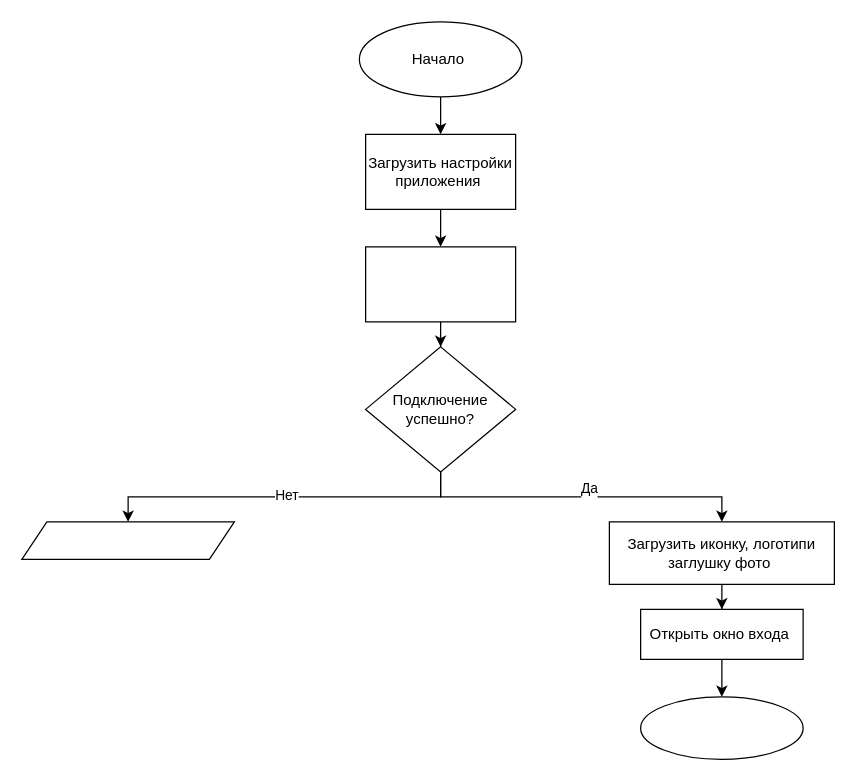
The diagram is 856 pixels wide and 781 high, and some of its shapes have lost their labels. The box of each missing label's shape, as (x1, y1, x2, y2) in pixels:
Ожидание действий пользователя: (639, 696, 803, 759)
Открыть подключение к БД: (364, 246, 516, 322)
Сообщение: проверьте подключение к БД: (21, 521, 234, 559)
